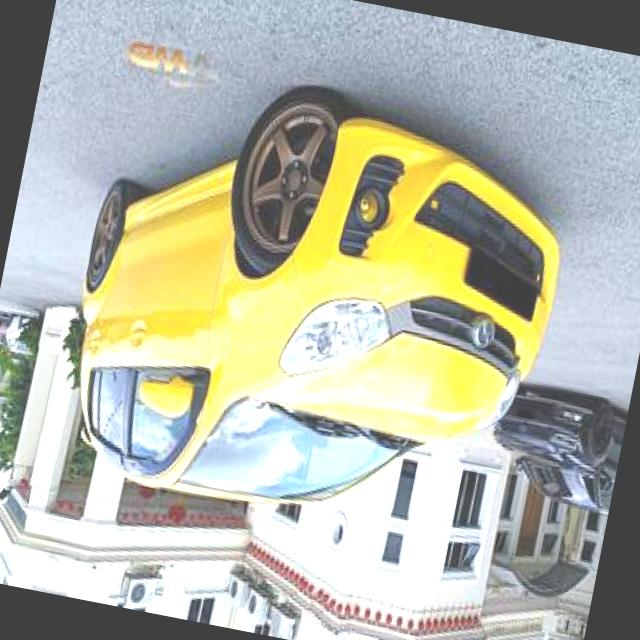PeroduaMyvi: (43, 51, 586, 560)
